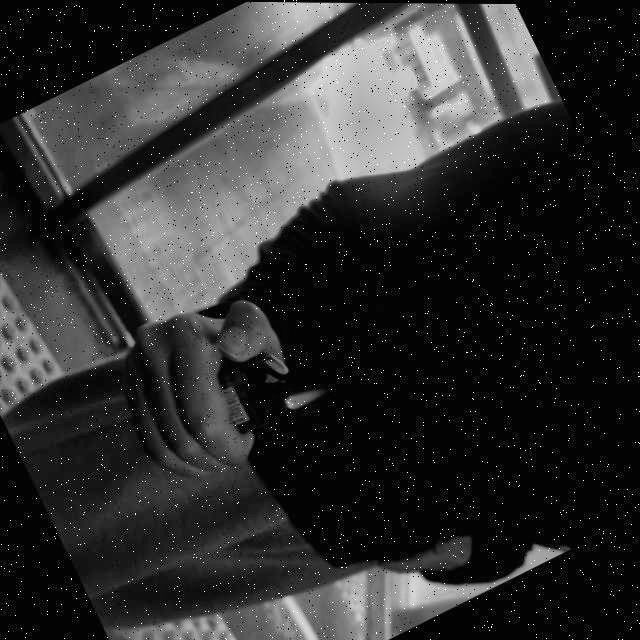Fire: (282, 374, 337, 415)
